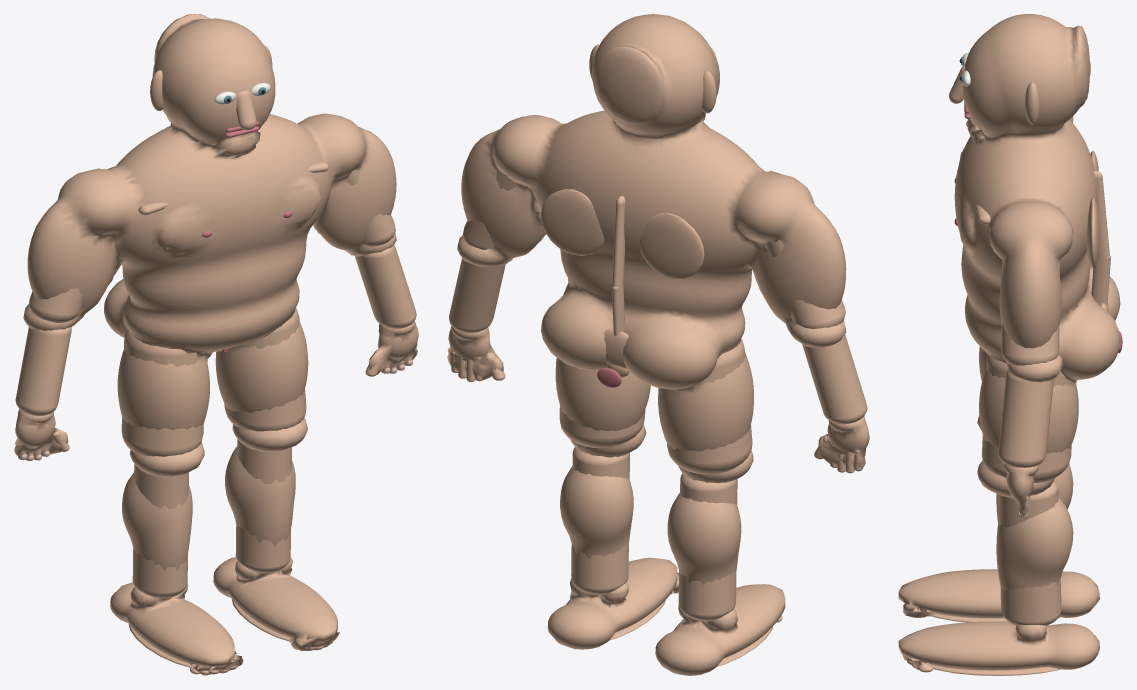
Rendered from body-kleinkind-weiblich-v2.glb.
3 renders of one model, left to right at view 1: azimuth 30°, elevation 25°; view 2: azimuth 150°, elevation 25°; view 3: azimuth 270°, elevation 25°, orthographic. The views are drawn at different scales.
Visible parts, largest first — view 1: zone__visual-surface-body-kleinkind-weiblich, zone__surface-forearm-left, zone__surface-thigh-left, zone__surface-lower-leg-right, zone__surface-lower-leg-left, zone__surface-forearm-right, zone__surface-thigh-right, zone__surface-upper-arm-left, zone__surface-upper-arm-right, zone__surface-nose; view 2: zone__visual-surface-body-kleinkind-weiblich, zone__surface-forearm-left, zone__surface-lower-leg-left, zone__surface-lower-leg-right, zone__surface-scapula-left, zone__surface-scapula-right, zone__surface-forearm-right, zone__surface-thigh-left, zone__surface-thigh-right, zone__surface-upper-arm-left, zone__surface-thoracic-spine, zone__surface-upper-arm-right (+1 smaller); view 3: zone__visual-surface-body-kleinkind-weiblich, zone__surface-forearm-right, zone__surface-lower-leg-right, zone__surface-thigh-right, zone__surface-upper-arm-right, zone__surface-thoracic-spine, zone__surface-lumbar-spine, zone__surface-scapula-right, zone__surface-sole-right, zone__surface-ear-right.
Boxes of the visible parts, left/top/right/bottom form: zone__visual-surface-body-kleinkind-weiblich: left=14, top=14, right=418, bottom=675; zone__surface-forearm-left: left=15, top=327, right=71, bottom=415; zone__surface-thigh-left: left=121, top=330, right=203, bottom=456; zone__surface-lower-leg-right: left=235, top=439, right=291, bottom=573; zone__surface-lower-leg-left: left=132, top=464, right=188, bottom=598; zone__surface-forearm-right: left=355, top=245, right=416, bottom=328; zone__surface-thigh-right: left=224, top=307, right=306, bottom=431; zone__surface-upper-arm-left: left=29, top=235, right=102, bottom=322; zone__surface-upper-arm-right: left=346, top=169, right=395, bottom=246; zone__surface-nose: left=236, top=90, right=256, bottom=130; zone__visual-surface-body-kleinkind-weiblich: left=447, top=14, right=869, bottom=675; zone__surface-forearm-left: left=802, top=334, right=867, bottom=424; zone__surface-lower-leg-left: left=678, top=473, right=737, bottom=621; zone__surface-lower-leg-right: left=571, top=447, right=629, bottom=595; zone__surface-scapula-left: left=639, top=212, right=704, bottom=279; zone__surface-scapula-right: left=540, top=189, right=604, bottom=255; zone__surface-forearm-right: left=449, top=258, right=505, bottom=333; zone__surface-thigh-left: left=667, top=339, right=752, bottom=474; zone__surface-thigh-right: left=559, top=406, right=645, bottom=448; zone__surface-upper-arm-left: left=764, top=239, right=845, bottom=328; zone__surface-thoracic-spine: left=612, top=195, right=625, bottom=291; zone__surface-upper-arm-right: left=462, top=171, right=516, bottom=249; zone__visual-surface-body-kleinkind-weiblich: left=898, top=14, right=1120, bottom=670; zone__surface-forearm-right: left=998, top=369, right=1053, bottom=467; zone__surface-lower-leg-right: left=998, top=481, right=1061, bottom=625; zone__surface-thigh-right: left=981, top=354, right=1071, bottom=482; zone__surface-upper-arm-right: left=1001, top=259, right=1060, bottom=365; zone__surface-thoracic-spine: left=1093, top=170, right=1109, bottom=262; zone__surface-lumbar-spine: left=1091, top=255, right=1110, bottom=305; zone__surface-scapula-right: left=1086, top=198, right=1099, bottom=268; zone__surface-sole-right: left=929, top=664, right=1061, bottom=675; zone__surface-ear-right: left=1024, top=82, right=1040, bottom=124.
Bounding box in the file's own units: 0.7036 × 1 × 0.3286.
